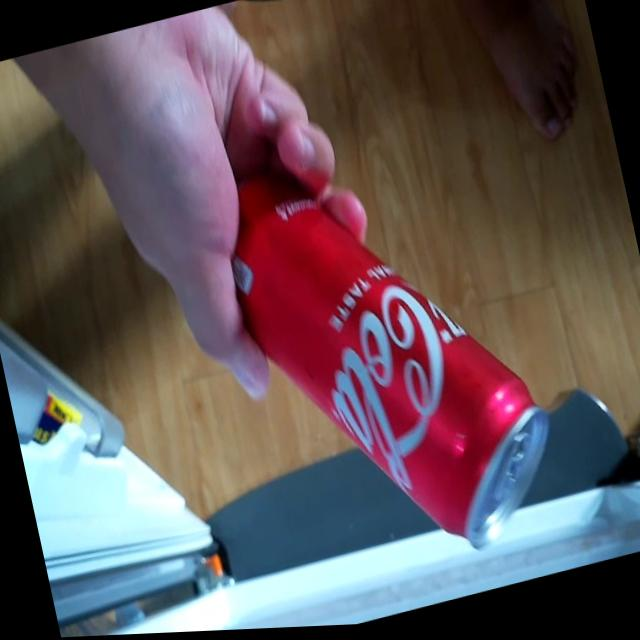coke: (195, 97, 579, 602)
